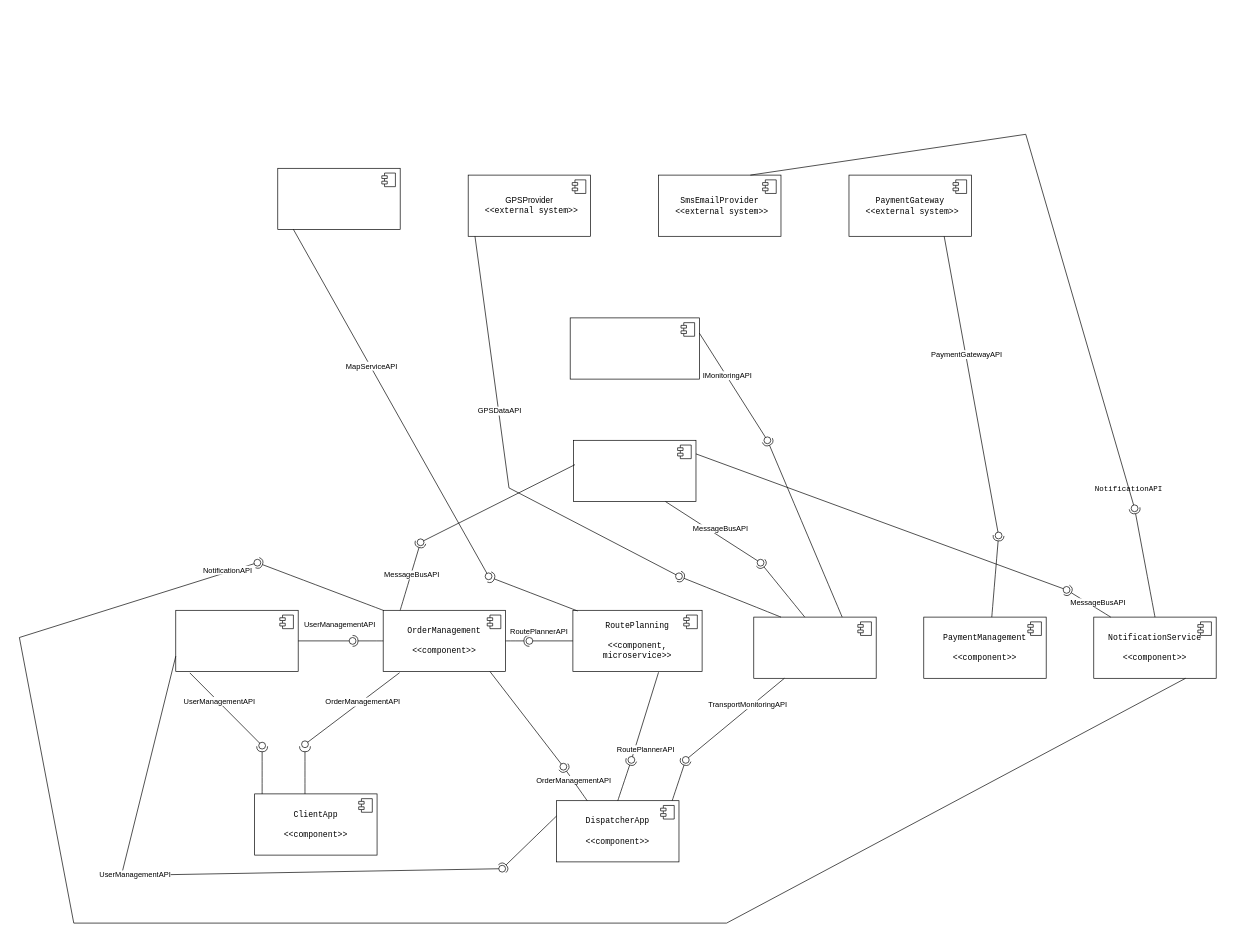
The diagram is 1252 pixels wide and 943 high, and some of its shapes have lost their labels. The centre of each missing label's shape, as x and y in pixels:
MapService <<external system>>: pixel 338 199
MessageBus <<component, message bus>>: pixel 634 471
MonitoringAndLogging <<component, microservice>>: pixel 634 348
TransportMonitoring <<component, critical>>: pixel 814 647
UserManagement <<component>>: pixel 236 641
